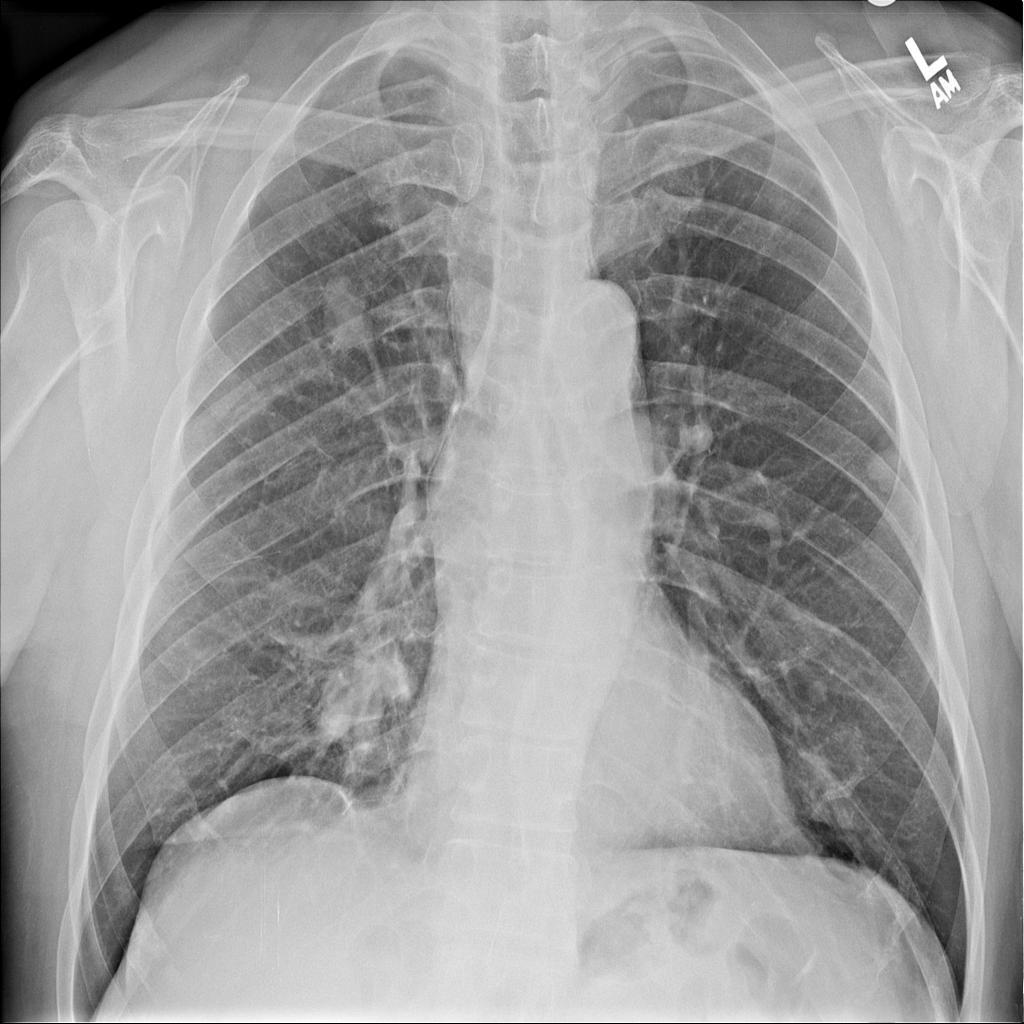Nodule: (308, 618, 418, 777), (315, 279, 380, 360), (865, 449, 908, 495)
